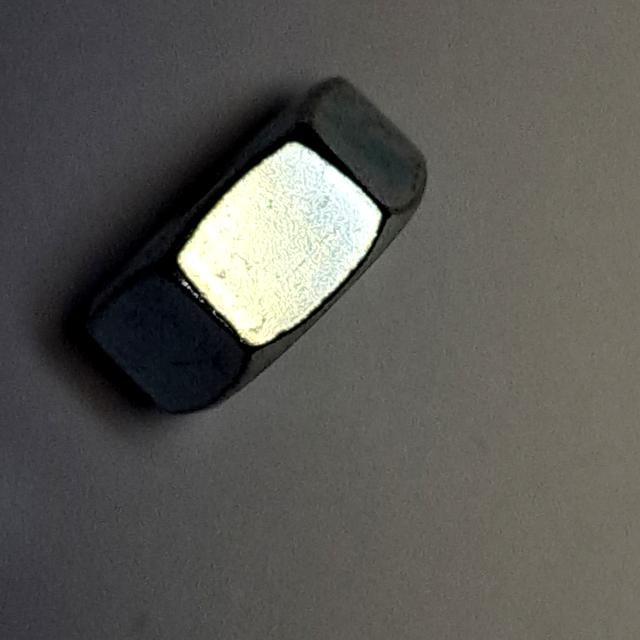Side_Excellent: (51, 57, 457, 430)
